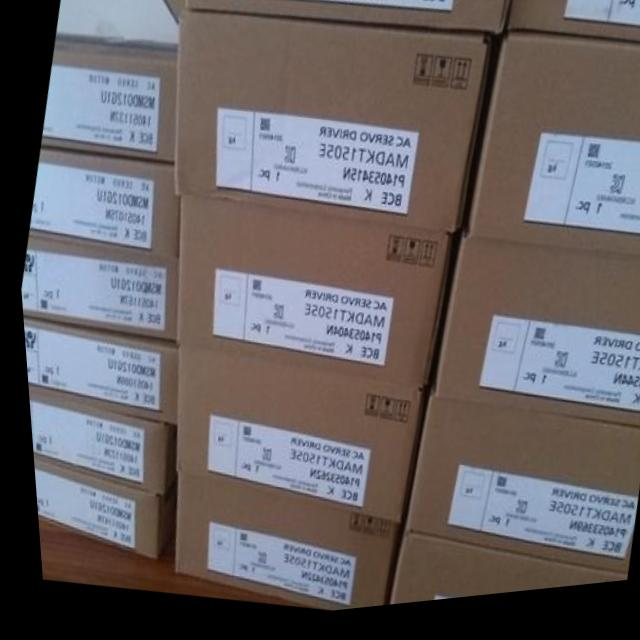box: (171, 14, 491, 241), (170, 198, 459, 396), (396, 388, 640, 585), (168, 350, 426, 530), (427, 229, 640, 440), (463, 39, 640, 271), (165, 474, 399, 616), (379, 530, 617, 612), (39, 33, 177, 164), (18, 316, 173, 428), (25, 145, 177, 258), (17, 237, 174, 343), (23, 390, 170, 498), (27, 456, 170, 561), (185, 0, 510, 46), (504, 0, 640, 56), (162, 0, 186, 30)
